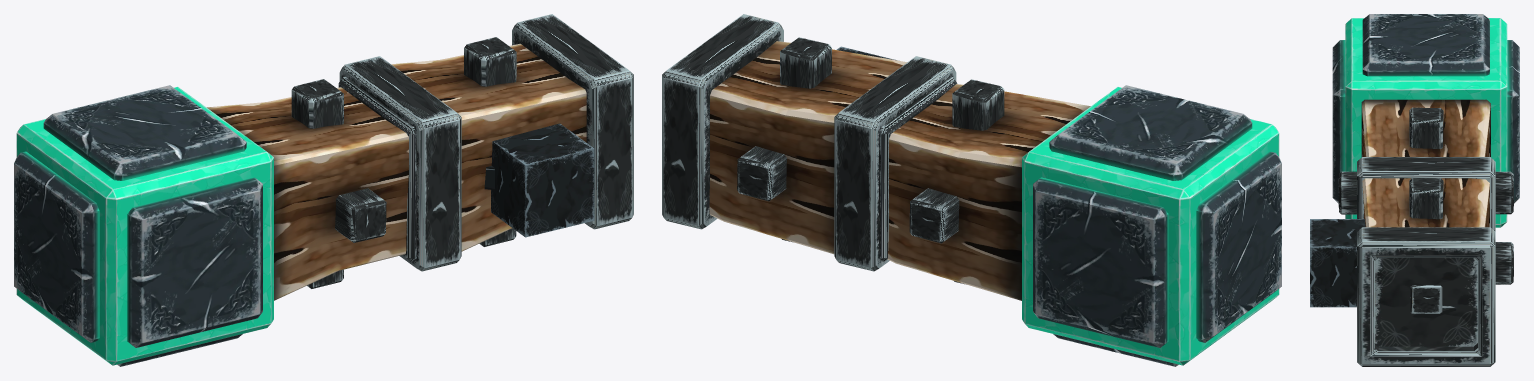
The model's file is step_004.glb.
3 views of the same model, side by side, from view 1: azimuth 30°, elevation 25°; view 2: azimuth 150°, elevation 25°; view 3: azimuth 270°, elevation 25° (orthographic). The views are drawn at different scales.
Parts seen in each view (by area): view 1: SingleWoodenBlock_12c9bb10-82ed-4a1a-a479-a46bfc47bf6e, StartingBlock_74c47283-72fb-4408-a40b-371f75eef3d3, StartPoint_87a4f15e-b9b6-4721-ae35-d45cb3f66fa6; view 2: SingleWoodenBlock_12c9bb10-82ed-4a1a-a479-a46bfc47bf6e, StartingBlock_74c47283-72fb-4408-a40b-371f75eef3d3; view 3: SingleWoodenBlock_12c9bb10-82ed-4a1a-a479-a46bfc47bf6e, StartingBlock_74c47283-72fb-4408-a40b-371f75eef3d3, StartPoint_87a4f15e-b9b6-4721-ae35-d45cb3f66fa6.
Part boxes in pixels (<box>): SingleWoodenBlock_12c9bb10-82ed-4a1a-a479-a46bfc47bf6e: <box>207,14,633,300</box>; StartingBlock_74c47283-72fb-4408-a40b-371f75eef3d3: <box>14,85,273,366</box>; StartPoint_87a4f15e-b9b6-4721-ae35-d45cb3f66fa6: <box>484,123,594,237</box>; SingleWoodenBlock_12c9bb10-82ed-4a1a-a479-a46bfc47bf6e: <box>662,14,1090,300</box>; StartingBlock_74c47283-72fb-4408-a40b-371f75eef3d3: <box>1022,85,1281,366</box>; SingleWoodenBlock_12c9bb10-82ed-4a1a-a479-a46bfc47bf6e: <box>1338,99,1513,366</box>; StartingBlock_74c47283-72fb-4408-a40b-371f75eef3d3: <box>1332,14,1519,227</box>; StartPoint_87a4f15e-b9b6-4721-ae35-d45cb3f66fa6: <box>1310,219,1365,307</box>.
Bounding box in the file's own units: 3.18 × 1.13 × 1.26.
3 materials, 3 textured.
